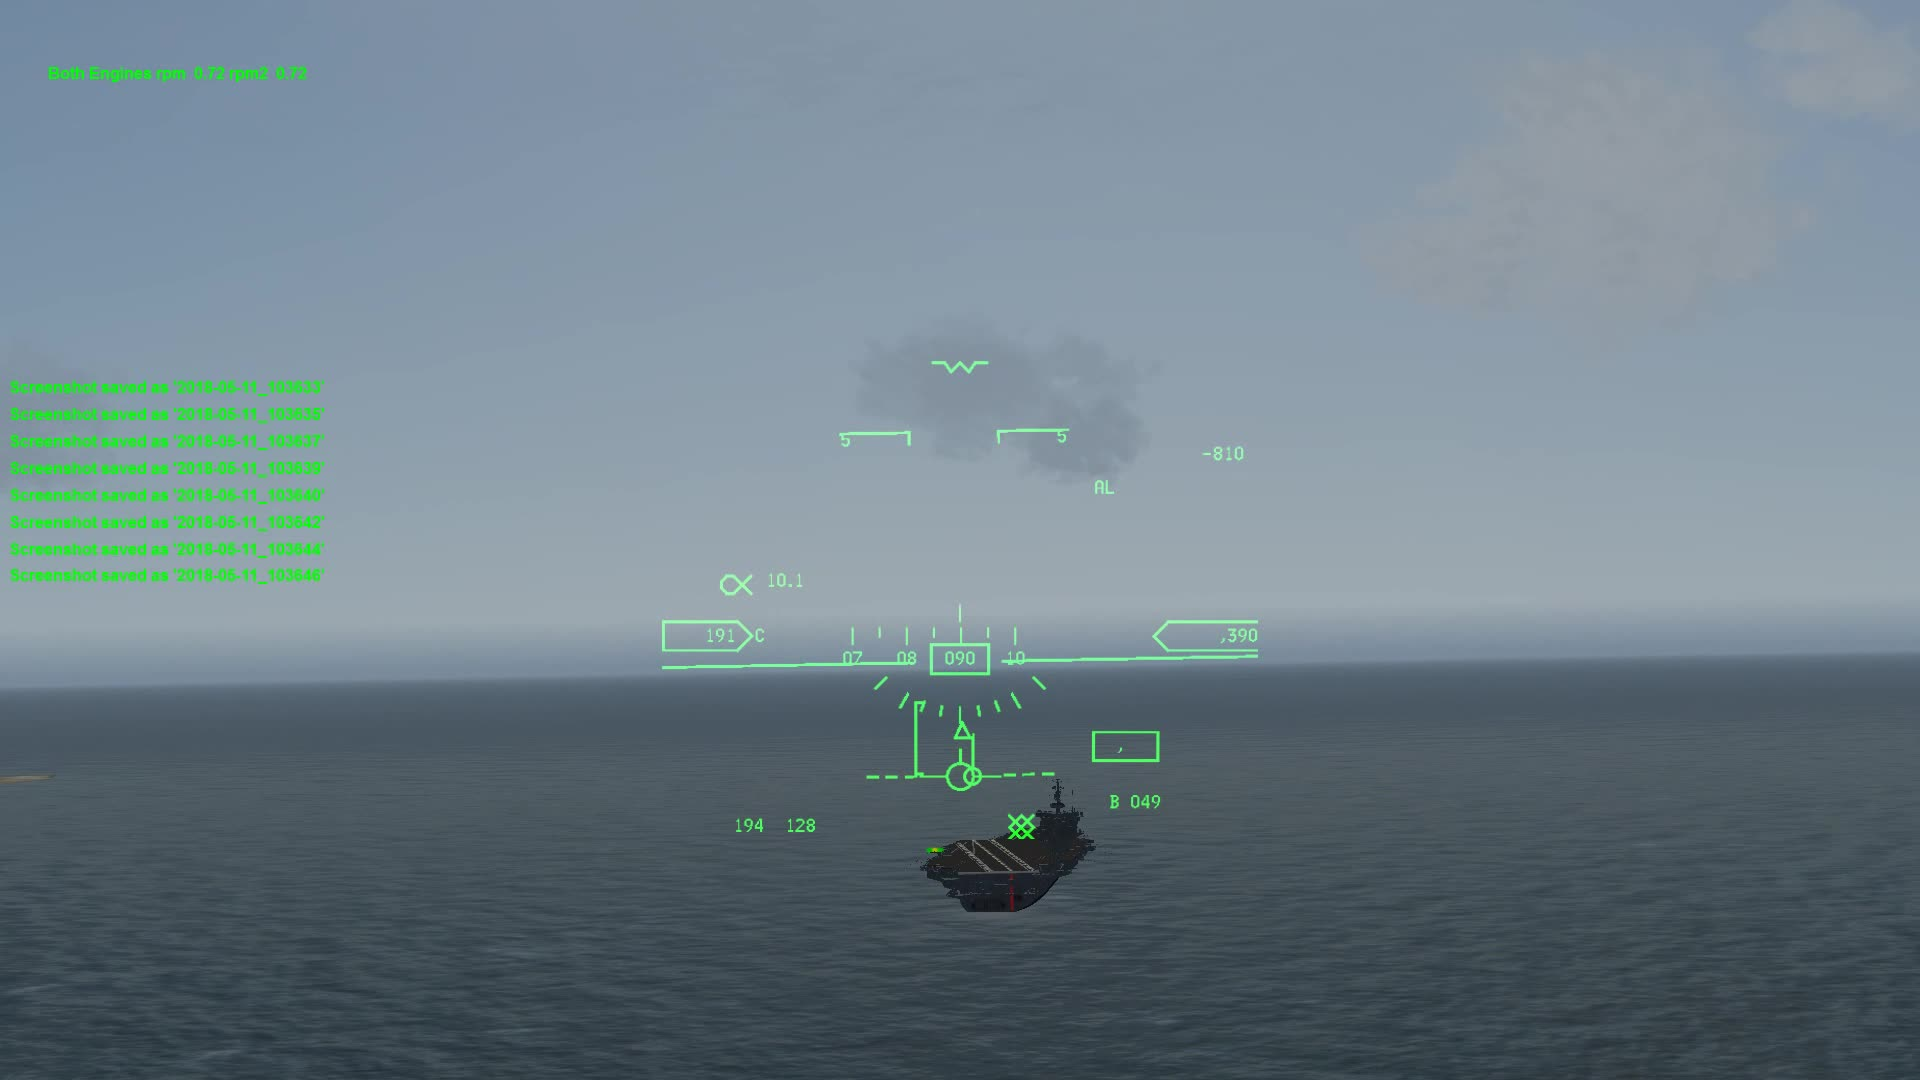speed vector: (938, 746, 1002, 794)
